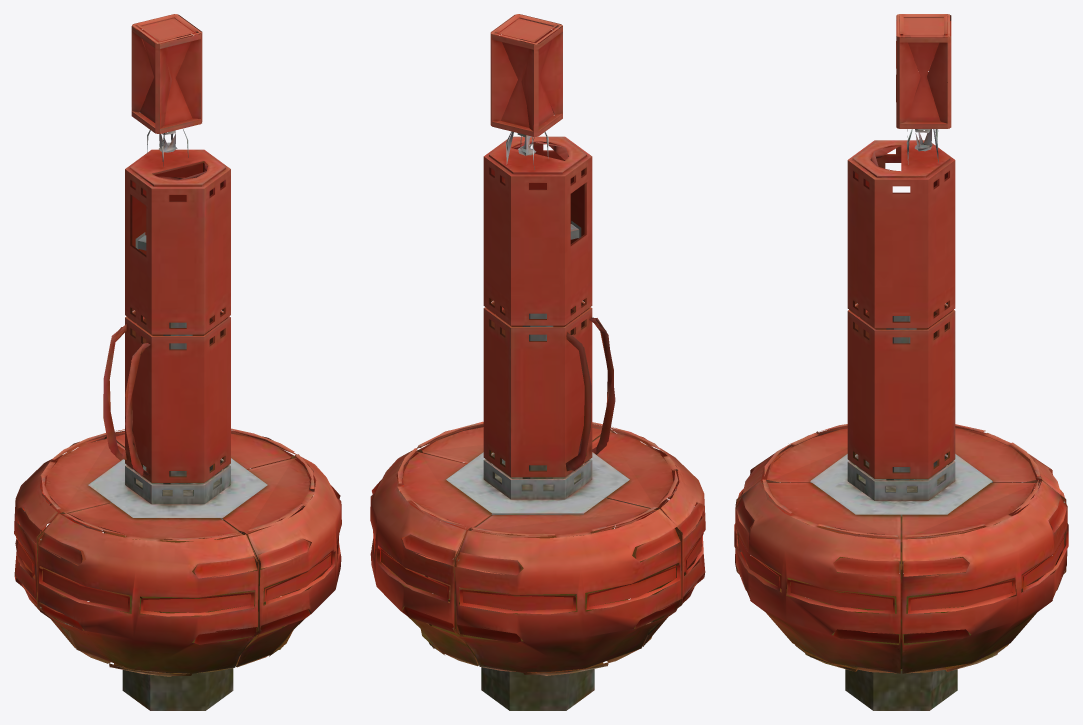
File: ph_lateral_sea_marker.glb
3 views of the same model, side by side, from view 1: azimuth 30°, elevation 25°; view 2: azimuth 150°, elevation 25°; view 3: azimuth 270°, elevation 25° (orthographic). The views are drawn at different scales.
Parts seen in each view (by area): view 1: lateral_sea_marker; view 2: lateral_sea_marker; view 3: lateral_sea_marker.
Boxes of the visible parts, bbox=[...] form: lateral_sea_marker: bbox=[14, 14, 341, 710]; lateral_sea_marker: bbox=[370, 14, 705, 710]; lateral_sea_marker: bbox=[734, 14, 1068, 710].
Bounding box in the file's own units: 3.04 × 6.86 × 3.04.
Materials: 1 (1 with a texture image).
